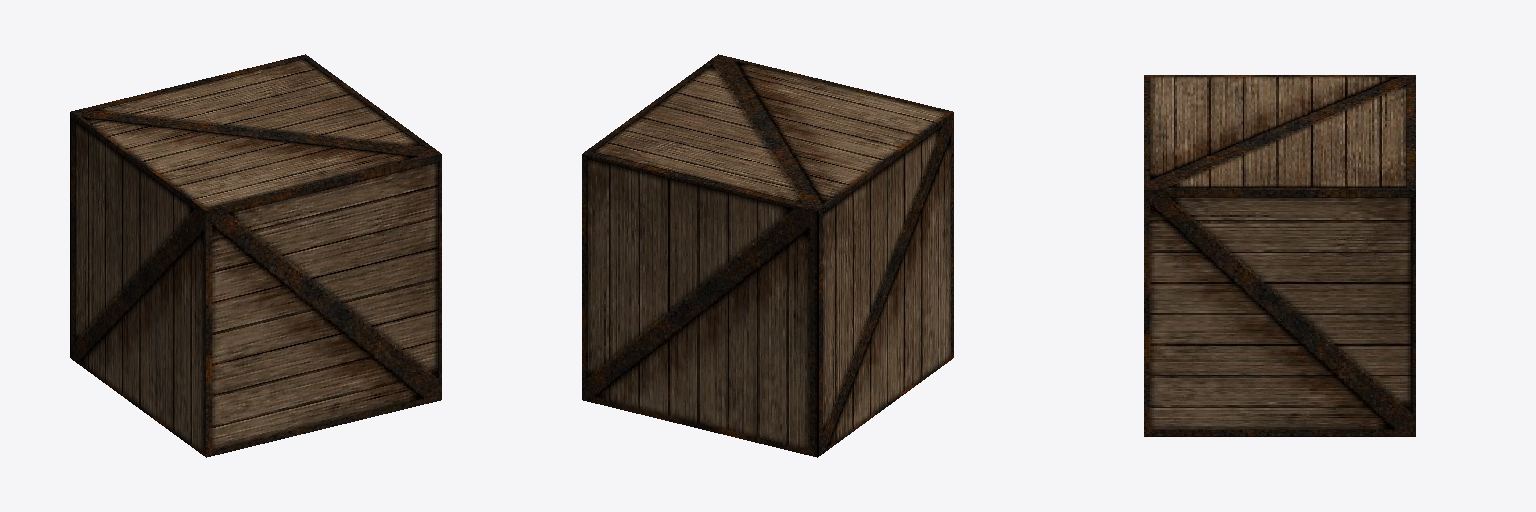
3 renders of one model, left to right at view 1: azimuth 30°, elevation 25°; view 2: azimuth 150°, elevation 25°; view 3: azimuth 270°, elevation 25°, orthographic.
Parts seen in each view (by area): view 1: Default; view 2: Default; view 3: Default.
Part boxes in pixels (x1,y1,x2,y2): Default: (70, 54, 441, 457); Default: (582, 54, 953, 457); Default: (1144, 75, 1415, 436).
Bounding box in the file's own units: 1.14 × 1.14 × 1.14.
1 materials, 1 textured.